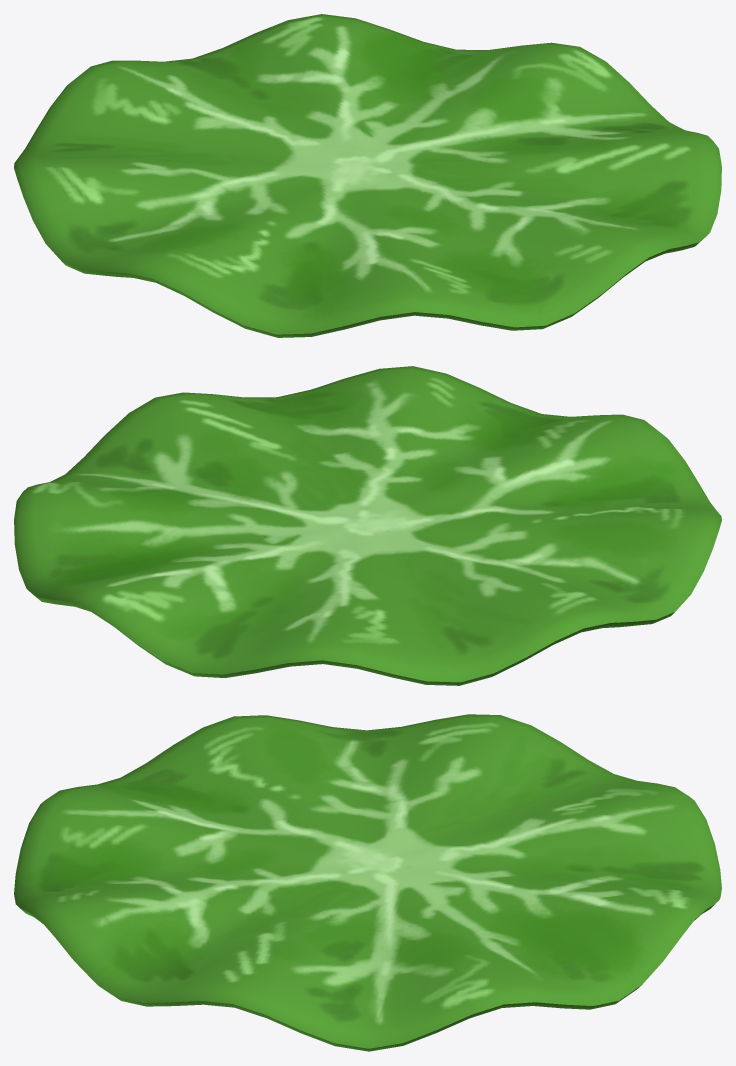
The model's file is Lettuce.glb.
3 renders of one model, top to bottom at view 1: azimuth 30°, elevation 25°; view 2: azimuth 150°, elevation 25°; view 3: azimuth 270°, elevation 25°, orthographic.
Visible parts, largest first — view 1: Lettuce; view 2: Lettuce; view 3: Lettuce.
Part boxes in pixels (x1,y1,x2,y2): Lettuce: (14,14,721,337); Lettuce: (14,366,721,685); Lettuce: (14,714,721,1051).
Size of the model in its own units: 5.61 by 0.5251 by 5.62.
Materials: 1 (1 with a texture image).
